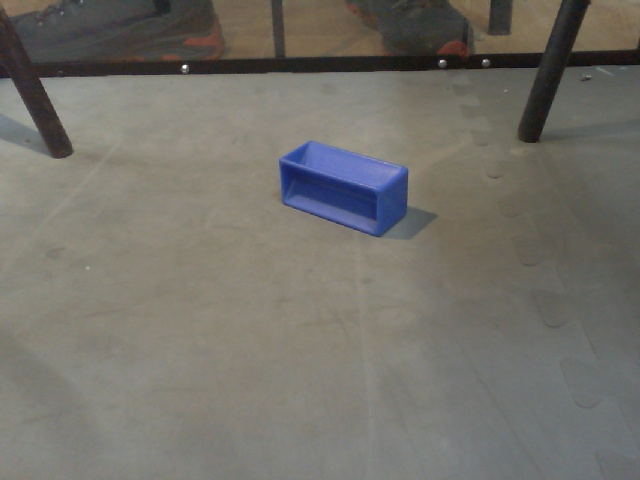BlueSample: (276, 137, 414, 239)
